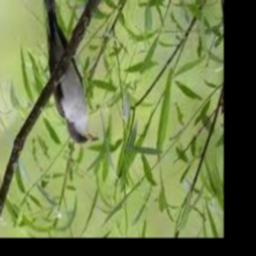Cuckoo: (38, 0, 98, 144)
